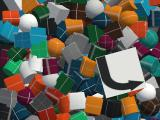Left: (96, 47, 146, 98)
